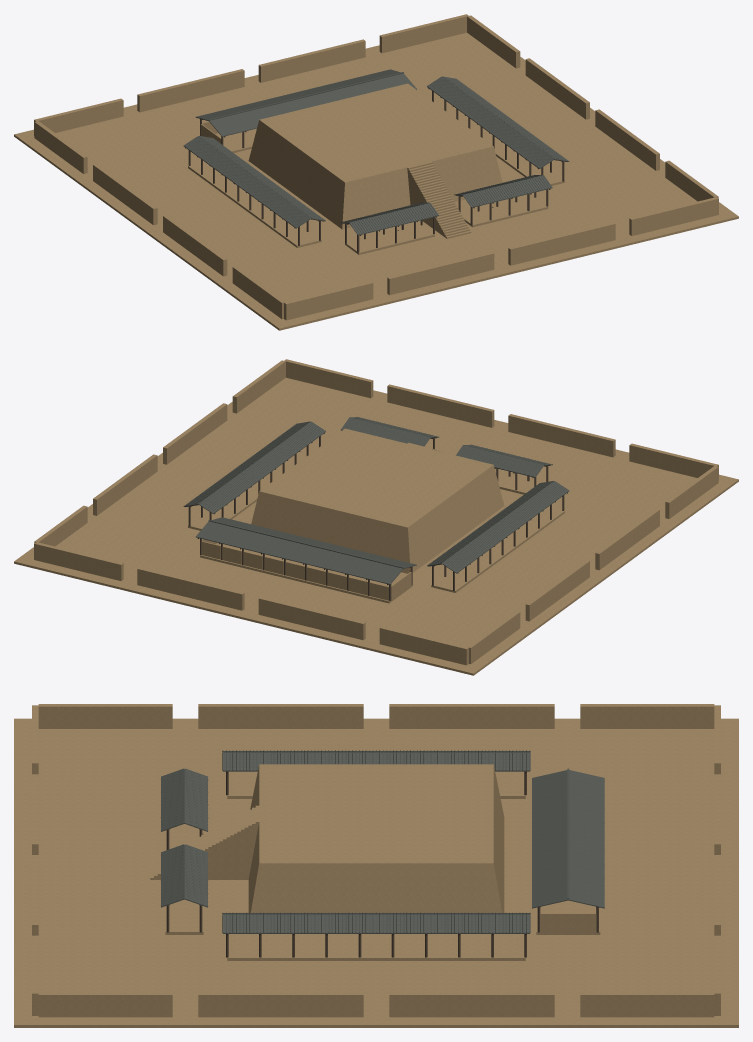
The model's file is lingtai-A-LOD1.glb.
3 renders of one model, top to bottom at view 1: azimuth 30°, elevation 25°; view 2: azimuth 150°, elevation 25°; view 3: azimuth 270°, elevation 25°, orthographic. The views are drawn at different scales.
Visible parts, largest first — view 1: lingtai-A-static_earth, lingtai-A-static_tile, lingtai-A-static_timber, lingtai-A-static_path; view 2: lingtai-A-static_earth, lingtai-A-static_tile, lingtai-A-static_timber; view 3: lingtai-A-static_earth, lingtai-A-static_tile, lingtai-A-static_path, lingtai-A-static_timber.
Part boxes in pixels (x1,y1,x2,y2): lingtai-A-static_earth: (14,14,738,330); lingtai-A-static_tile: (183,69,569,235); lingtai-A-static_timber: (185,88,567,252); lingtai-A-static_path: (451,234,517,276); lingtai-A-static_earth: (14,359,738,675); lingtai-A-static_tile: (183,417,569,584); lingtai-A-static_timber: (185,433,567,600); lingtai-A-static_earth: (14,704,738,1027); lingtai-A-static_tile: (161,750,604,933); lingtai-A-static_path: (14,866,150,877); lingtai-A-static_timber: (160,771,599,957).
Size of the model in its own units: 68 by 6.3 by 68.
4 materials, 4 textured.
